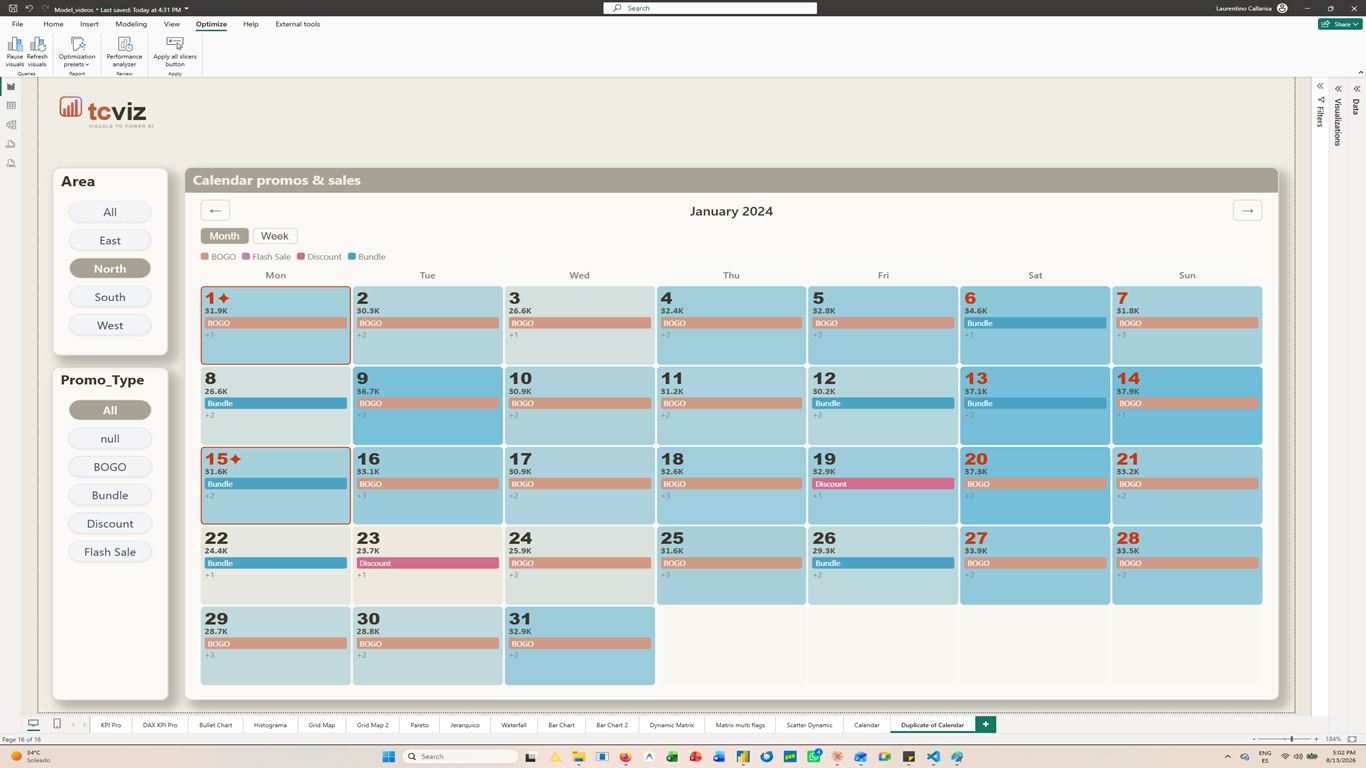

This screenshot's page, from the dashboard's own definition file:
{"tool":"powerbi","page":{"name":"Duplicate of Calendar","canvas":[1280,720],"ordinal":0},"visuals":[{"type":"image","box":[13.9,5.4,118.4,67.7],"z":0},{"type":"chipSlicerFree","fields":{"category":["sample_sales.Promo_Type"]},"box":[13.9,328.4,118.7,377.9],"z":1000},{"type":"chipSlicerFree","fields":{"category":["sample_sales.Area"]},"box":[14.1,102.6,118.4,212.6],"z":2000},{"type":"calendarTCViz022303184F264C8B9ACE6A13E838FFEB_test","title":"Calendar promos & sales","fields":{"date":["sample_sales.Date"],"holidayName":["sample_sales.Holiday_Name"],"eventName":["sample_sales.Promo_Type"],"eventCategory":["sample_sales.Promo_Type"],"mainMeasure":["Sum(sample_sales.Sales_Value)"],"secondaryMeasures":["Sum(sample_sales.Units)","Avg(sample_sales.Units)"]},"box":[148.2,102.4,1116.1,603.8],"z":3000}]}

Visuals, with their boxes on the page's 1280x720 design canvas (x1, y1, x2, y2). These are canvas units, not pixel positions in the 1366x768 screenshot, which may show the page scaled, cropped or inside an application window:
image: [14,5,132,73]
chipSlicerFree - sample_sales.Promo_Type: [14,328,133,706]
chipSlicerFree - sample_sales.Area: [14,103,132,315]
"Calendar promos & sales" calendarTCViz022303184F264C8B9ACE6A13E838FFEB_test: [148,102,1264,706]
